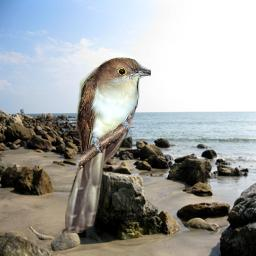Cuckoo: (65, 56, 151, 233)
